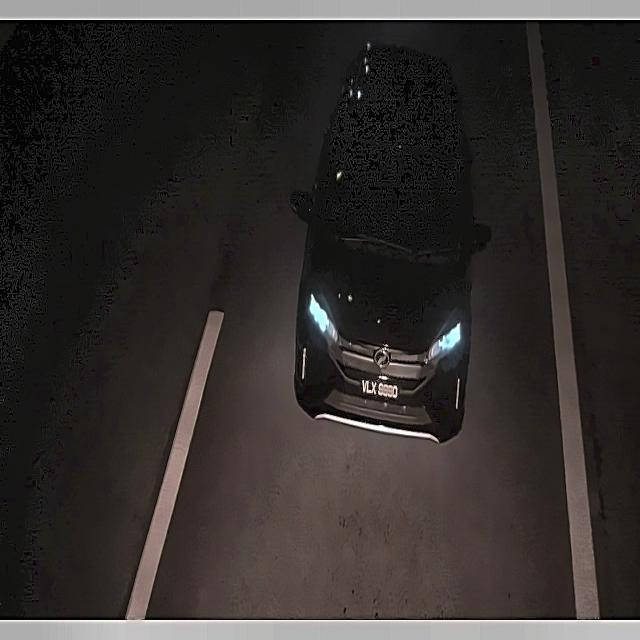car: (357, 370, 405, 409)
